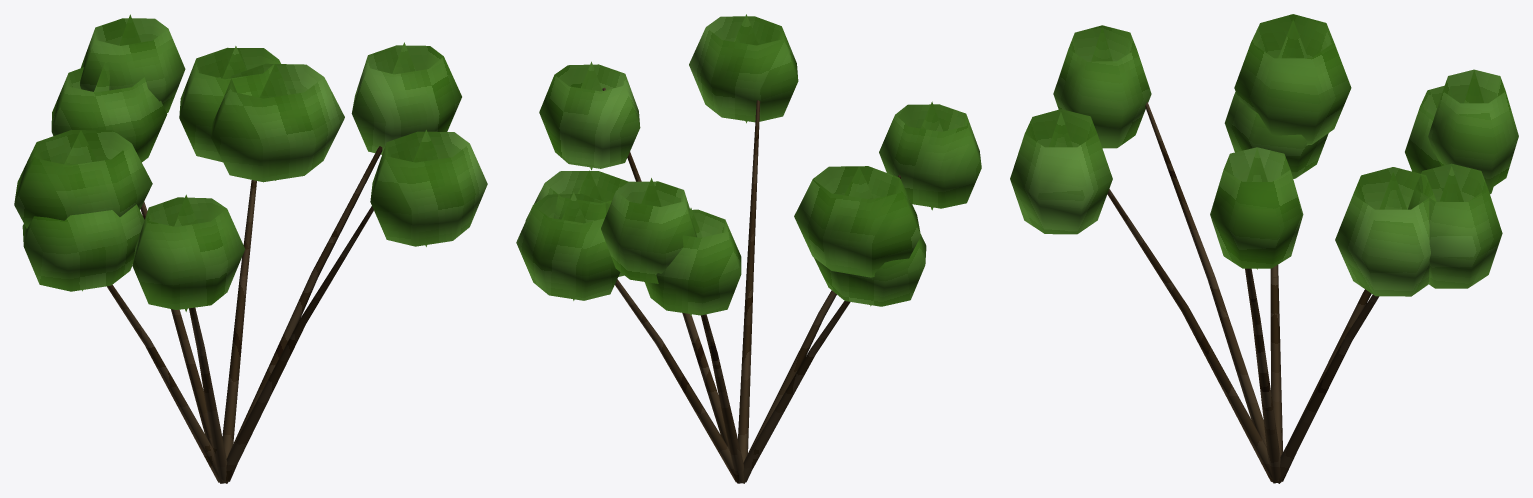
File: filbert_big03-lod1.glb
3 renders of one model, left to right at view 1: azimuth 30°, elevation 25°; view 2: azimuth 150°, elevation 25°; view 3: azimuth 270°, elevation 25°, orthographic. The views are drawn at different scales.
Visible parts, largest first — view 1: TZ_filbert_shrub_Batch_00_LOD1, TZ_filbert_shrub_Batch_01_LOD1; view 2: TZ_filbert_shrub_Batch_00_LOD1, TZ_filbert_shrub_Batch_01_LOD1; view 3: TZ_filbert_shrub_Batch_00_LOD1, TZ_filbert_shrub_Batch_01_LOD1.
Part boxes in pixels (left/top/right/bottom): TZ_filbert_shrub_Batch_00_LOD1: left=14, top=14, right=487, bottom=311; TZ_filbert_shrub_Batch_01_LOD1: left=107, top=146, right=382, bottom=483; TZ_filbert_shrub_Batch_00_LOD1: left=516, top=14, right=981, bottom=315; TZ_filbert_shrub_Batch_01_LOD1: left=602, top=87, right=900, bottom=483; TZ_filbert_shrub_Batch_00_LOD1: left=1010, top=14, right=1518, bottom=296; TZ_filbert_shrub_Batch_01_LOD1: left=1107, top=102, right=1379, bottom=483.
Bounding box in the file's own units: 2.66 × 2.45 × 2.69.
2 materials, 2 textured.
